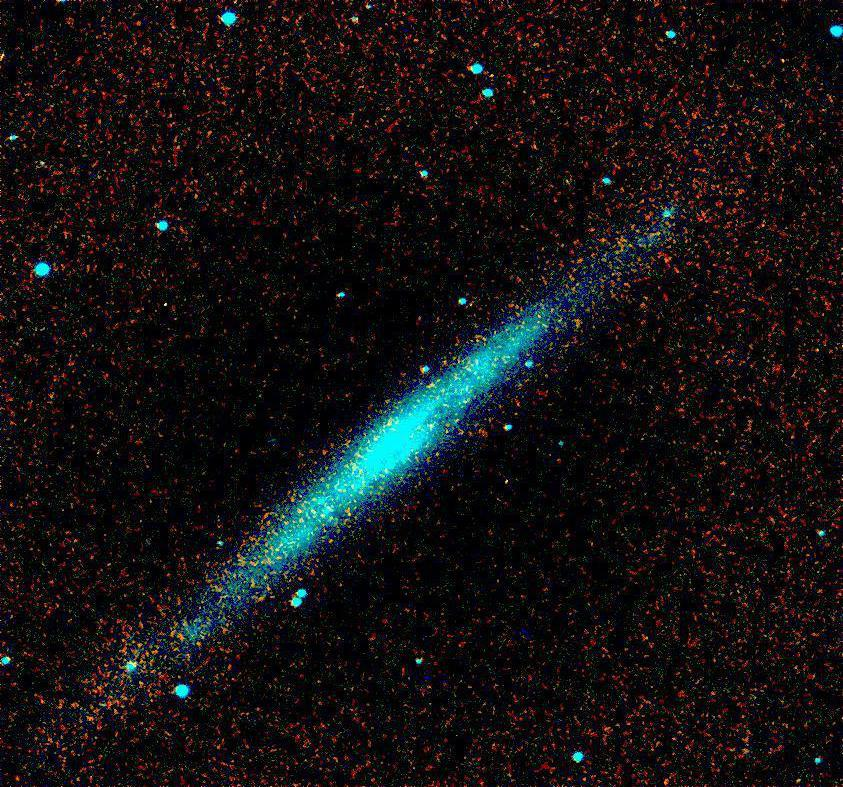star: (495, 464, 525, 494)
